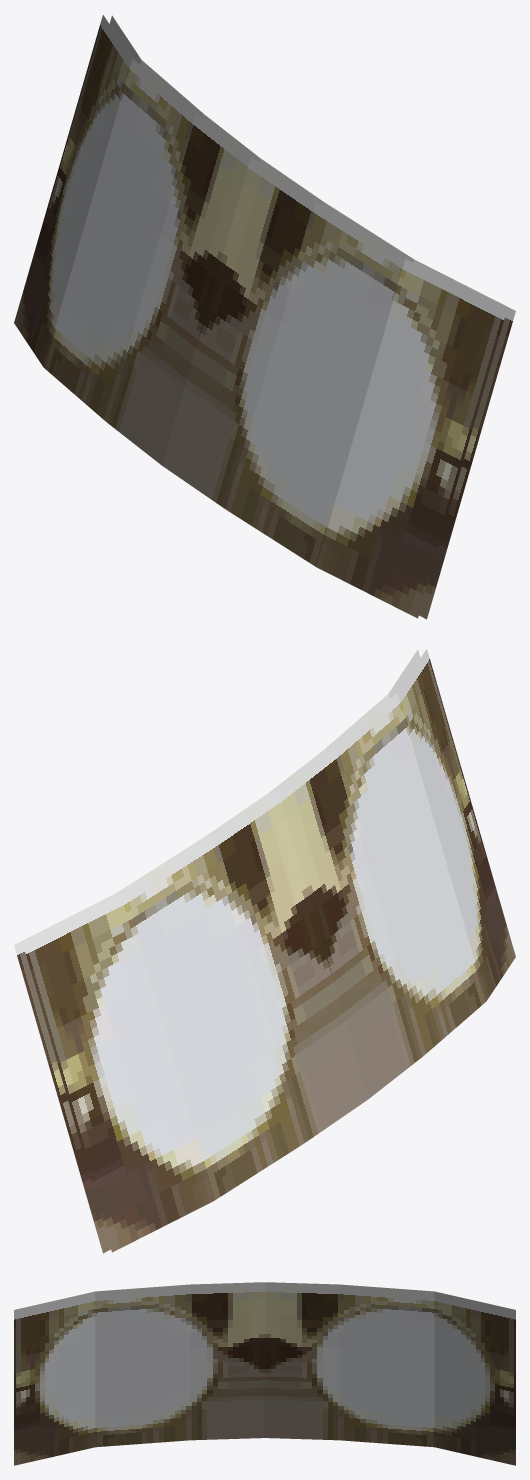
File: Mole_glasses.obj
The picture shows the model from 3 angles, top to bottom: view 1: azimuth 30°, elevation 25°; view 2: azimuth 150°, elevation 25°; view 3: azimuth 270°, elevation 25°; orthographic projection. The views are drawn at different scales.
Parts seen in each view (by area): view 1: Mole_glasses_tri; view 2: Mole_glasses_tri; view 3: Mole_glasses_tri.
Part boxes in pixels (left/top/right/bottom): Mole_glasses_tri: left=14, top=15, right=515, bottom=619; Mole_glasses_tri: left=14, top=649, right=515, bottom=1253; Mole_glasses_tri: left=14, top=1282, right=515, bottom=1465.
Bounding box in the file's own units: 0.0464 × 0.09 × 0.2136.
Materials: 1 (1 with a texture image).
